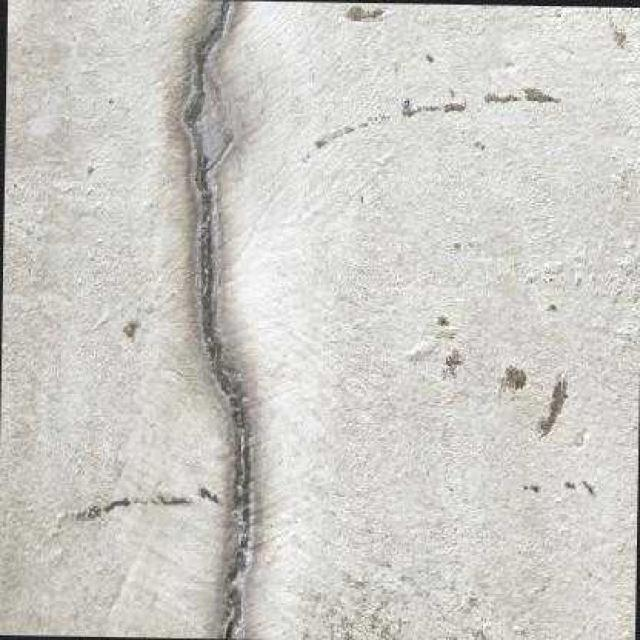D00: (185, 0, 250, 638)
